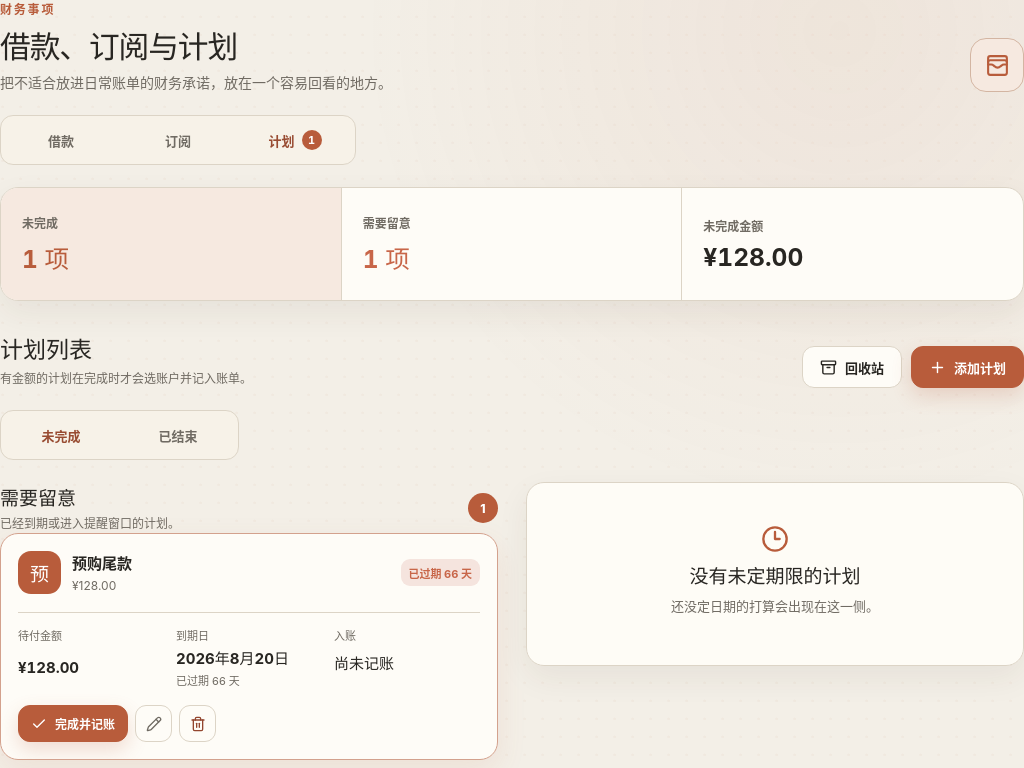
Test case: 财务事项页面 › 计划页展示提醒并在有金额时进入完成记账
Expected: the text "预购尾款" is shown, top-left (72, 554), bottom-right (132, 573)
Expected: the tab with aria-label "计划，1项需要留意" shows "1", top-left (239, 120), bottom-right (351, 160)
Step 1. Click the button "完成并记账" → (73, 724), box top-left (18, 705), bottom-right (128, 742)
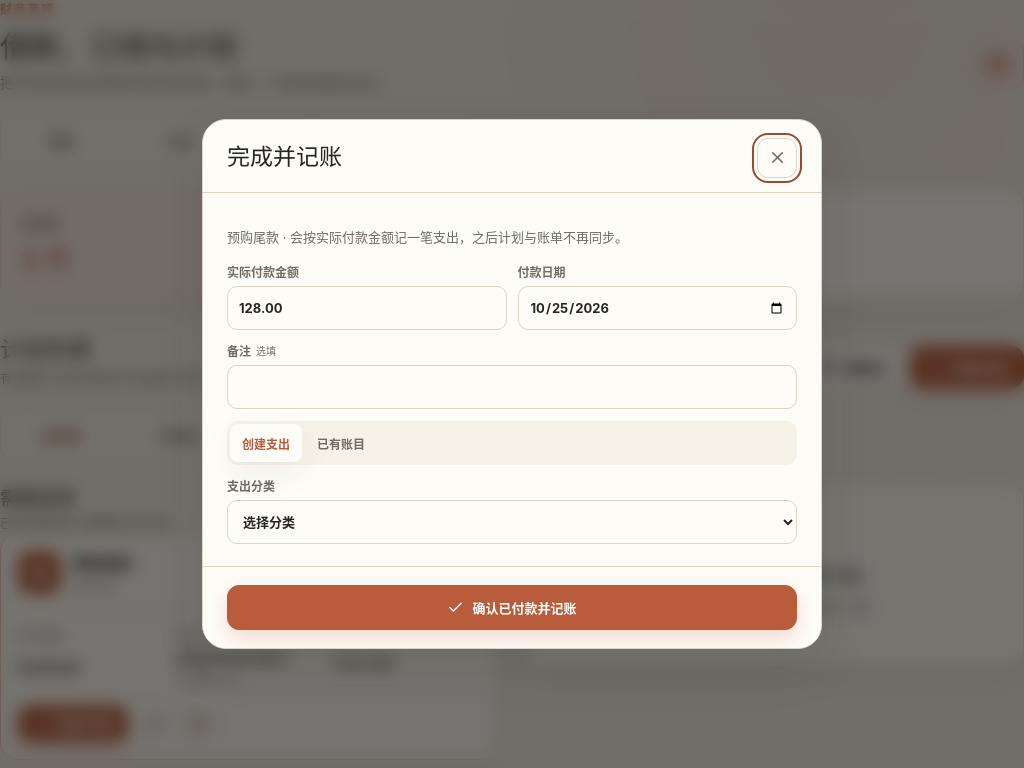
Now the button "确认已付款并记账" is shown, box top-left (227, 585), bottom-right (797, 630)
